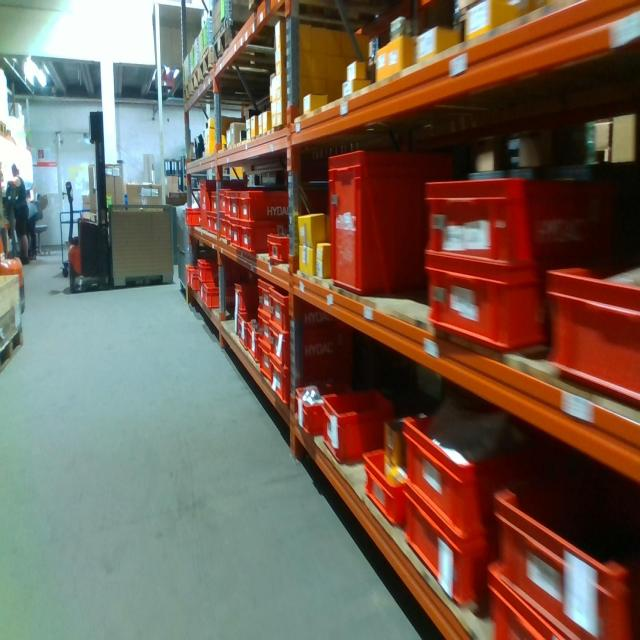pallet: (211, 20, 285, 67), (1, 323, 24, 379), (200, 46, 215, 87), (189, 64, 200, 98), (180, 86, 190, 110)
pallet_truck: (59, 102, 118, 293), (0, 208, 32, 314)
small_load_carrier: (488, 465, 637, 631), (399, 396, 543, 537), (424, 163, 607, 269), (326, 144, 440, 295), (545, 260, 639, 416), (422, 241, 547, 356), (403, 481, 498, 602), (483, 557, 595, 639), (321, 393, 390, 465), (358, 440, 410, 533), (268, 326, 347, 376), (268, 285, 342, 334), (235, 188, 311, 222), (200, 181, 248, 233), (297, 386, 330, 435), (236, 222, 276, 258), (198, 260, 242, 284), (204, 284, 243, 310), (270, 357, 290, 403), (258, 342, 276, 388), (233, 285, 265, 309), (268, 232, 293, 261), (255, 304, 274, 342), (257, 272, 275, 312), (246, 319, 260, 367), (219, 188, 241, 217), (232, 310, 249, 342), (238, 315, 249, 346), (230, 191, 241, 219), (185, 207, 200, 226), (230, 218, 240, 245), (224, 192, 233, 217), (187, 266, 198, 286), (226, 214, 233, 243), (219, 218, 227, 243), (212, 191, 219, 214), (212, 217, 219, 236), (206, 214, 211, 237), (191, 272, 197, 290), (200, 282, 203, 301)
stillage: (106, 200, 176, 289), (173, 206, 186, 301)
